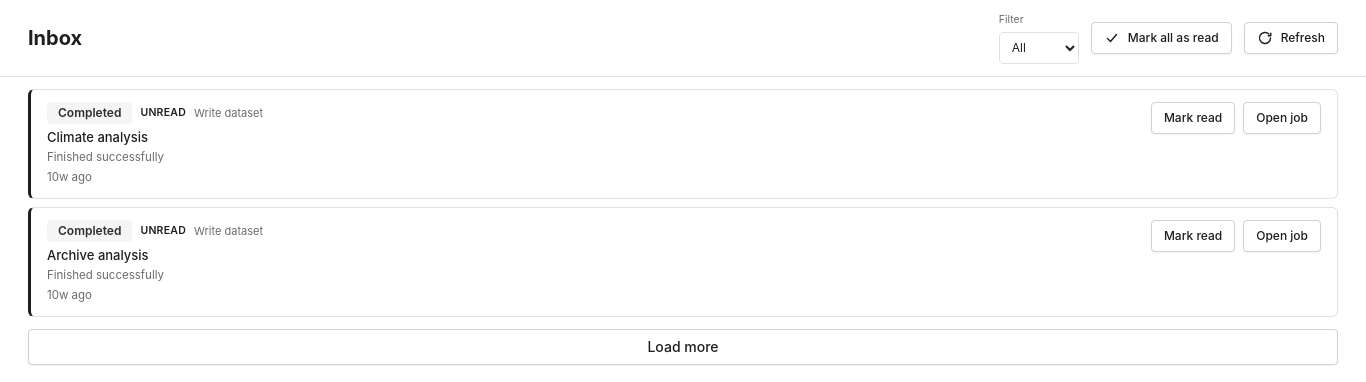
it: InboxView › marks every visible item read with one request and preserves All history
Expected: the text "Archive analysis" is shown, [47,247,149,263]
Click the button "Mark all as read" at (1161, 38), box [1091,22,1232,54]
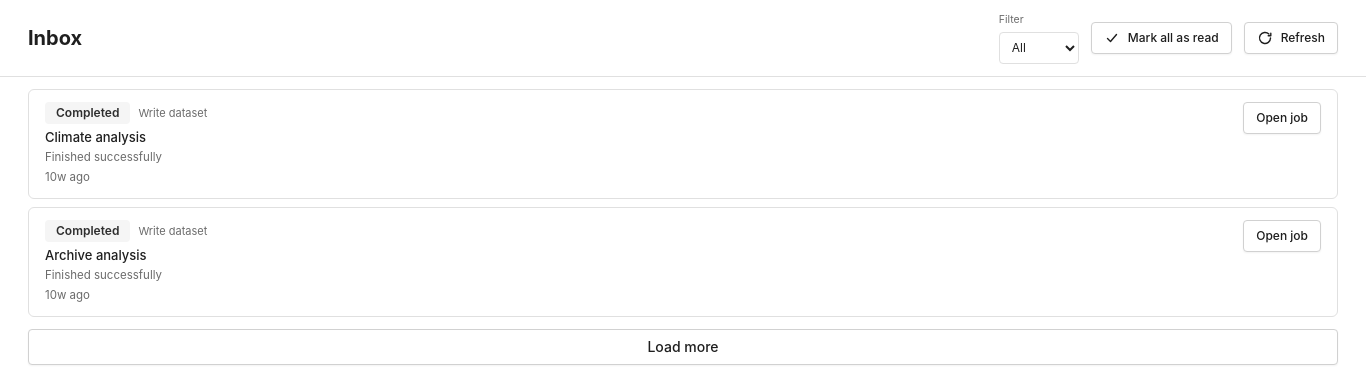
Expected: the text "Climate analysis" is shown, [45,129,146,145]
Expected: the text "Unread" is gone
Expected: the button "Mark read" is gone
